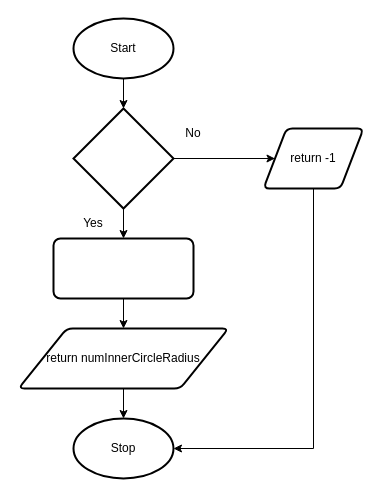
This 381x496 diagram has some shape labels left out. Each missing label, with the centre of its shape:
if (isValid()): point 123,158
numInnerCircleRadius = numArea / numSemiperimeter: point 123,268
